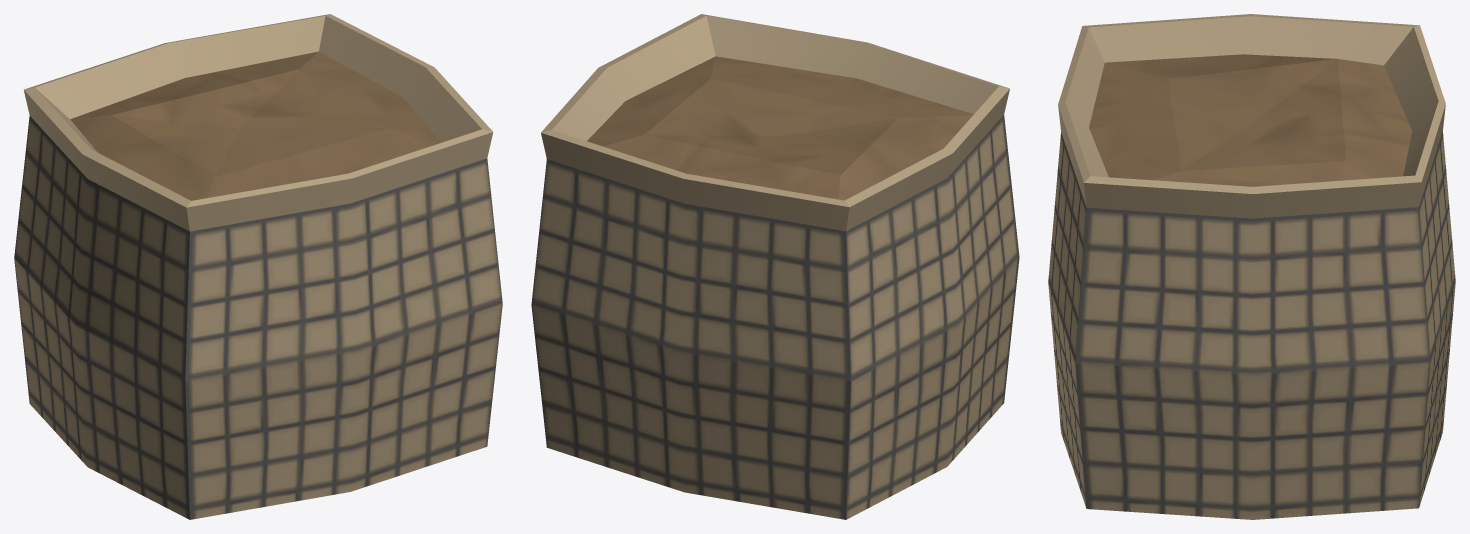
File: SM_Prop_Barrier_Base_Single_01.glb
3 renders of one model, left to right at view 1: azimuth 30°, elevation 25°; view 2: azimuth 150°, elevation 25°; view 3: azimuth 270°, elevation 25°, orthographic. The views are drawn at different scales.
Visible parts, largest first — view 1: SM_Prop_Barrier_Base_Single_01; view 2: SM_Prop_Barrier_Base_Single_01; view 3: SM_Prop_Barrier_Base_Single_01.
Part boxes in pixels (<box>): SM_Prop_Barrier_Base_Single_01: <box>14,14,502,519</box>; SM_Prop_Barrier_Base_Single_01: <box>531,14,1019,519</box>; SM_Prop_Barrier_Base_Single_01: <box>1048,14,1455,519</box>.
Size of the model in its own units: 1.25 by 1.03 by 1.15.
Materials: 1 (1 with a texture image).
